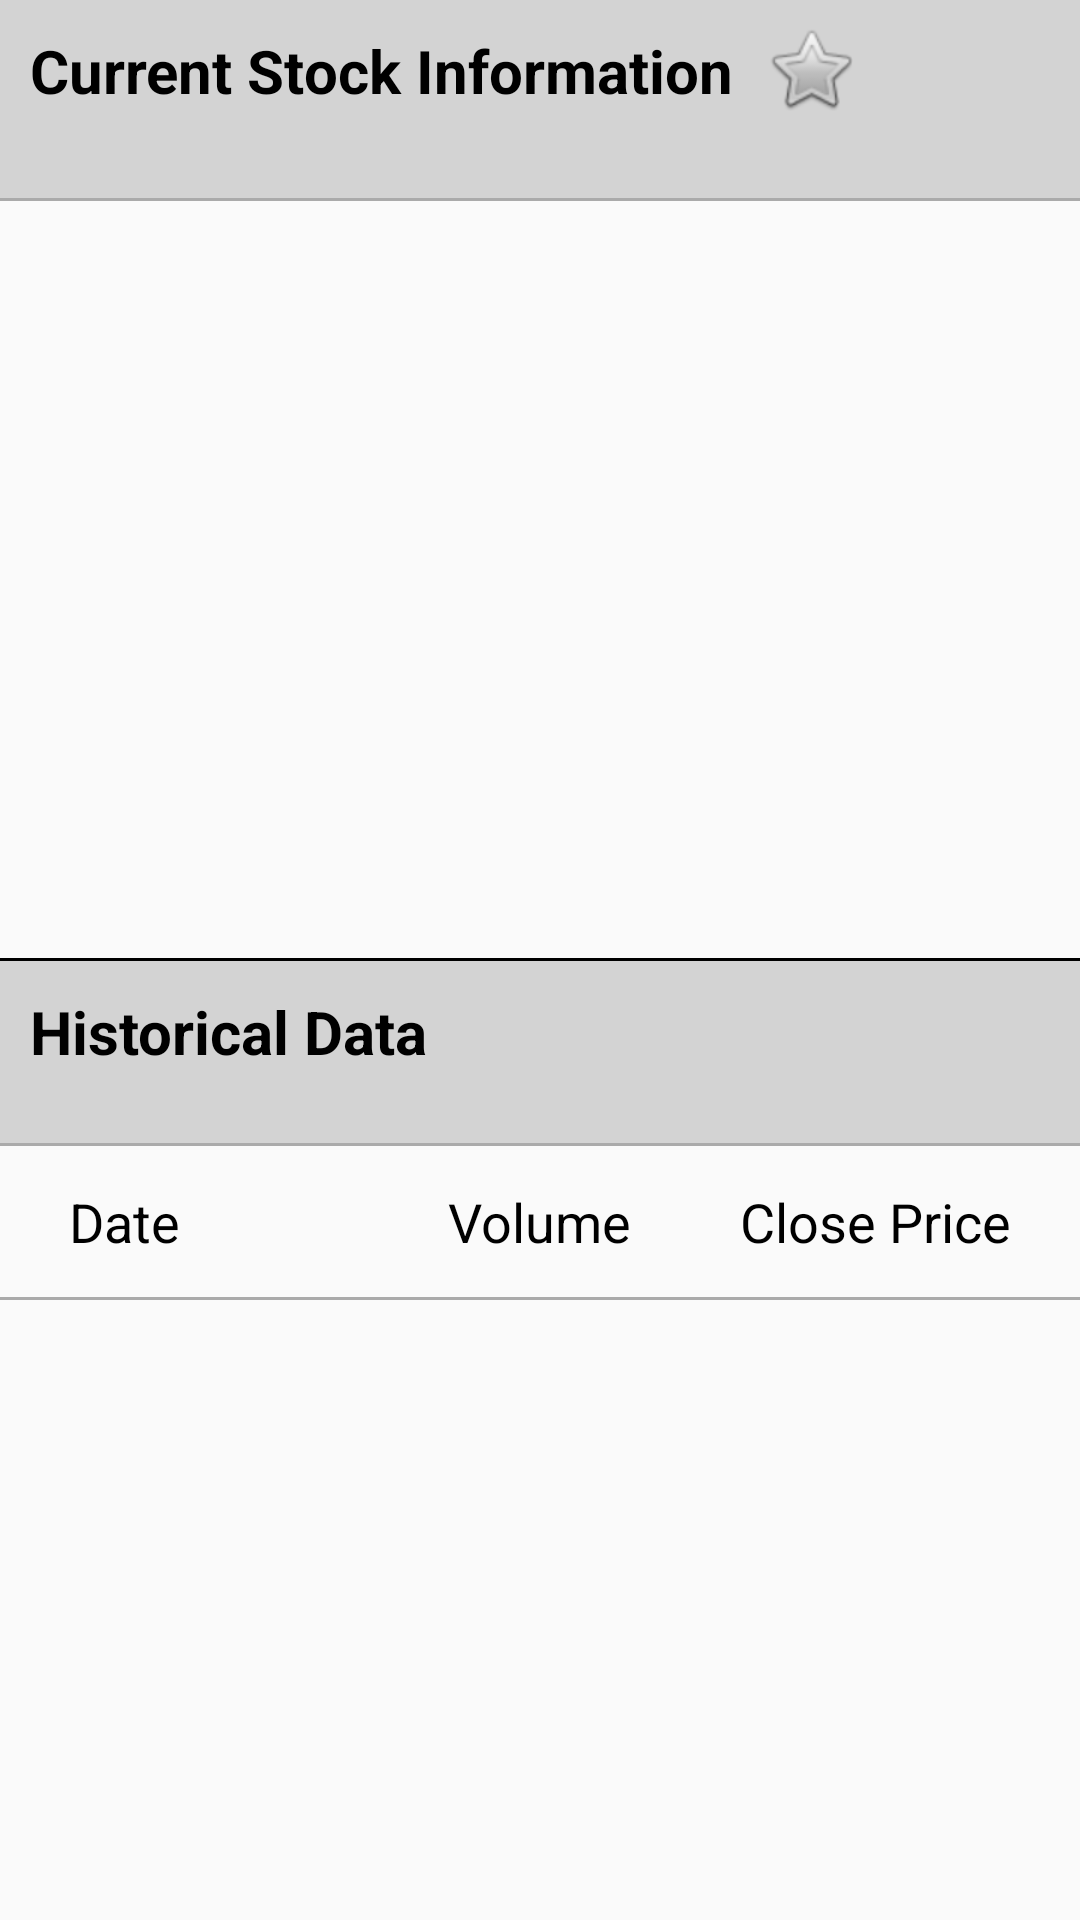

Icons on this 1080 × 1920 Android screen, each with its box as (x1, y1, x2, y2):
star: (772, 31, 852, 109)
